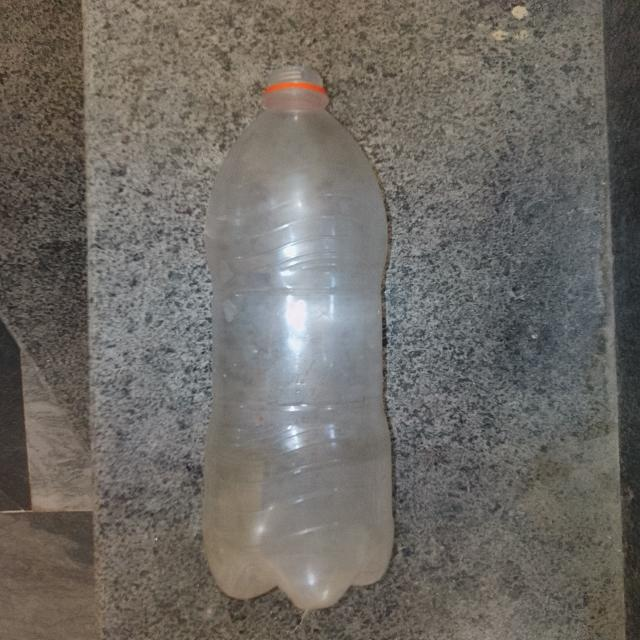bottle: (193, 55, 418, 619)
